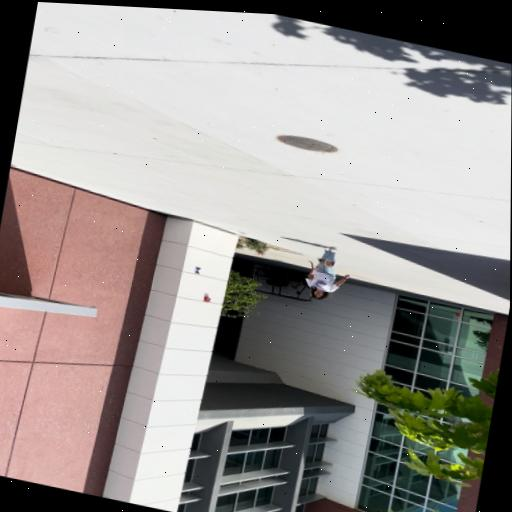target6: (193, 266, 201, 274)
